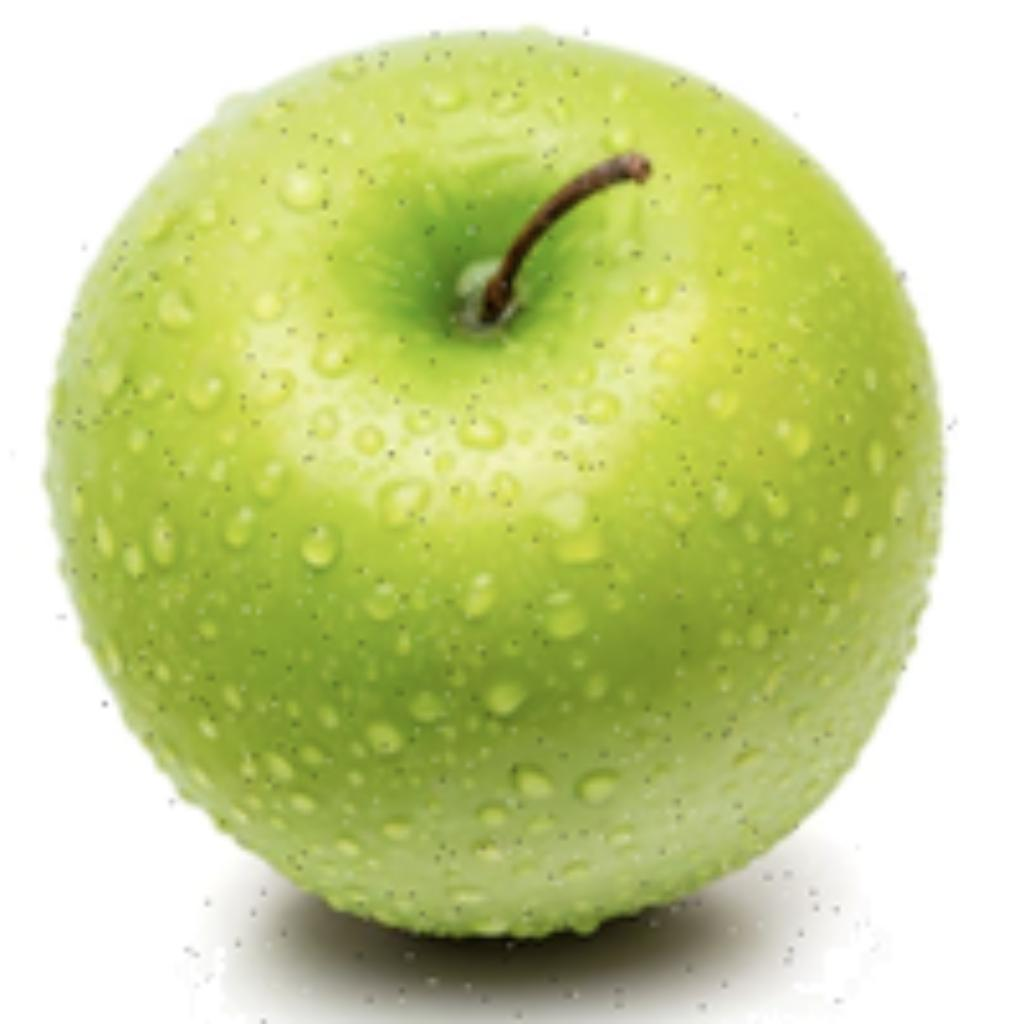apple: (36, 15, 957, 1019)
